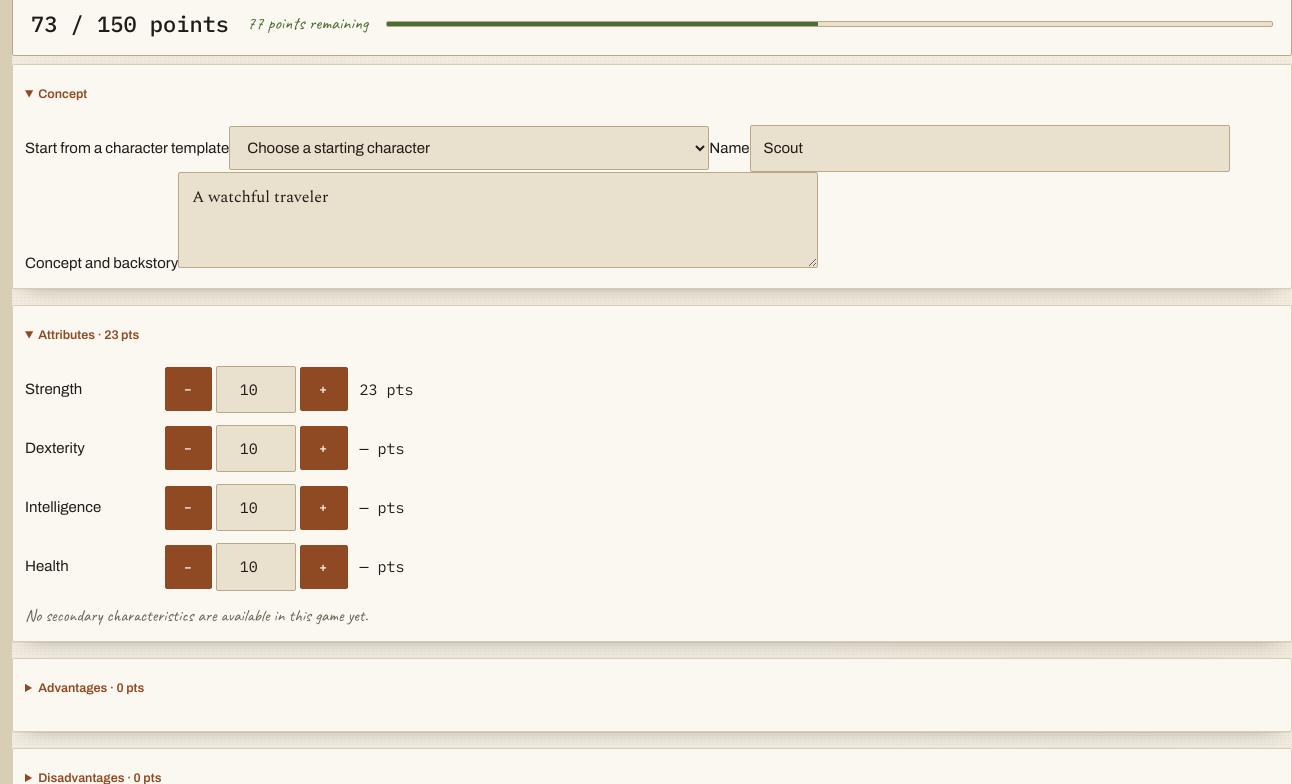
it: says plainly when a section cannot be used instead of leaving it empty (#268)
Expected: the text "73 / 150 points" is shown, x1=31 y1=7 x2=229 y2=41
Click the heading "Advantages · 0 pts" at (91, 688), box x1=38 y1=681 x2=144 y2=695
(page scrolled)
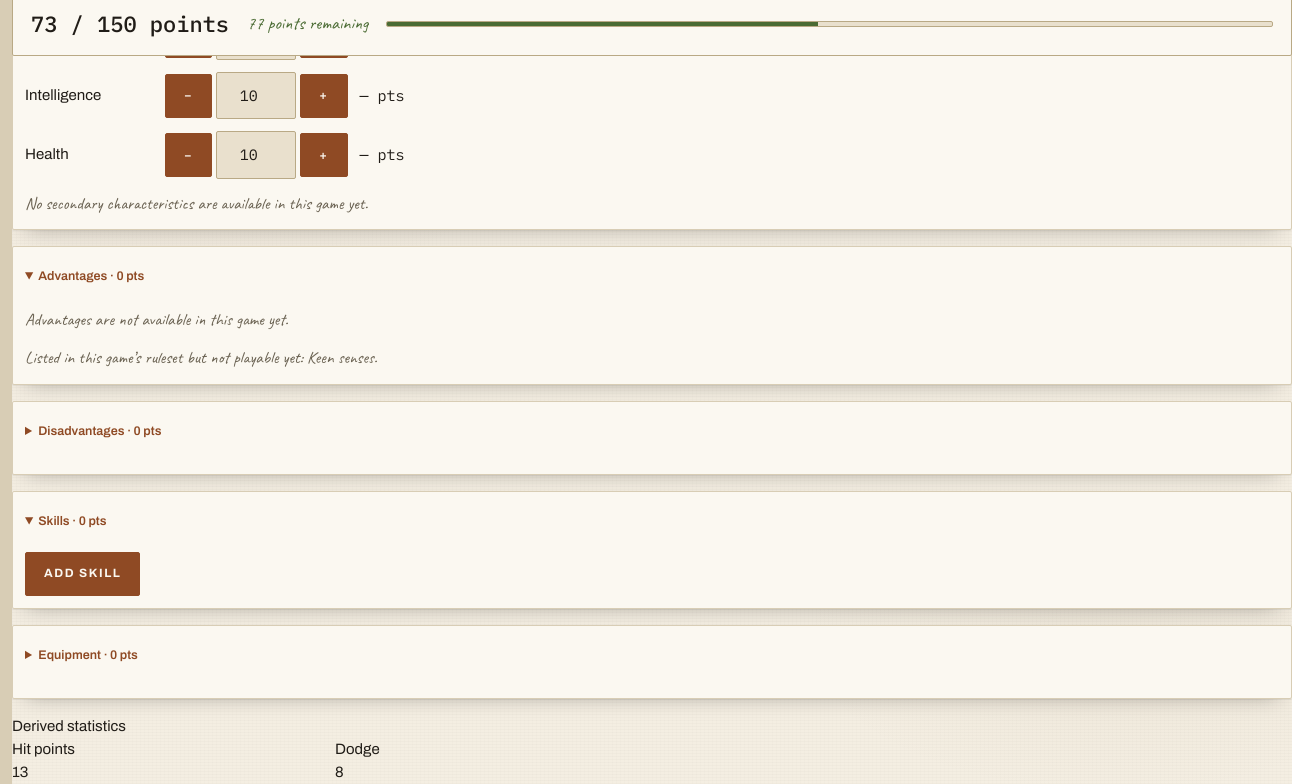
Expected: the text "Advantages are not available in this game yet." is shown, x1=25 y1=309 x2=288 y2=330
Click the heading "Disadvantages · 0 pts" at (100, 431), box x1=38 y1=424 x2=162 y2=438
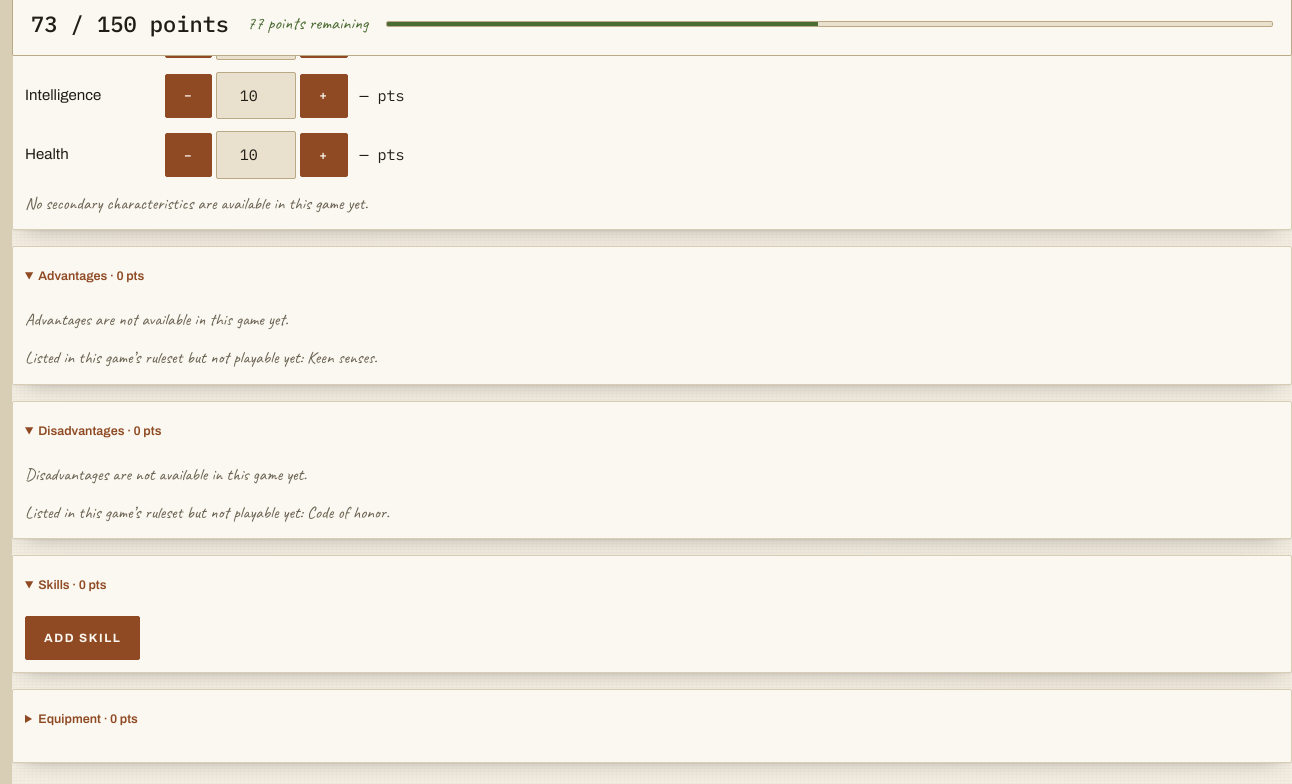
Expected: the text "Disadvantages are not available in this game yet." is shown, x1=25 y1=464 x2=307 y2=485
Click the heading "Equipment · 0 pts" at (88, 719), box x1=38 y1=712 x2=138 y2=726
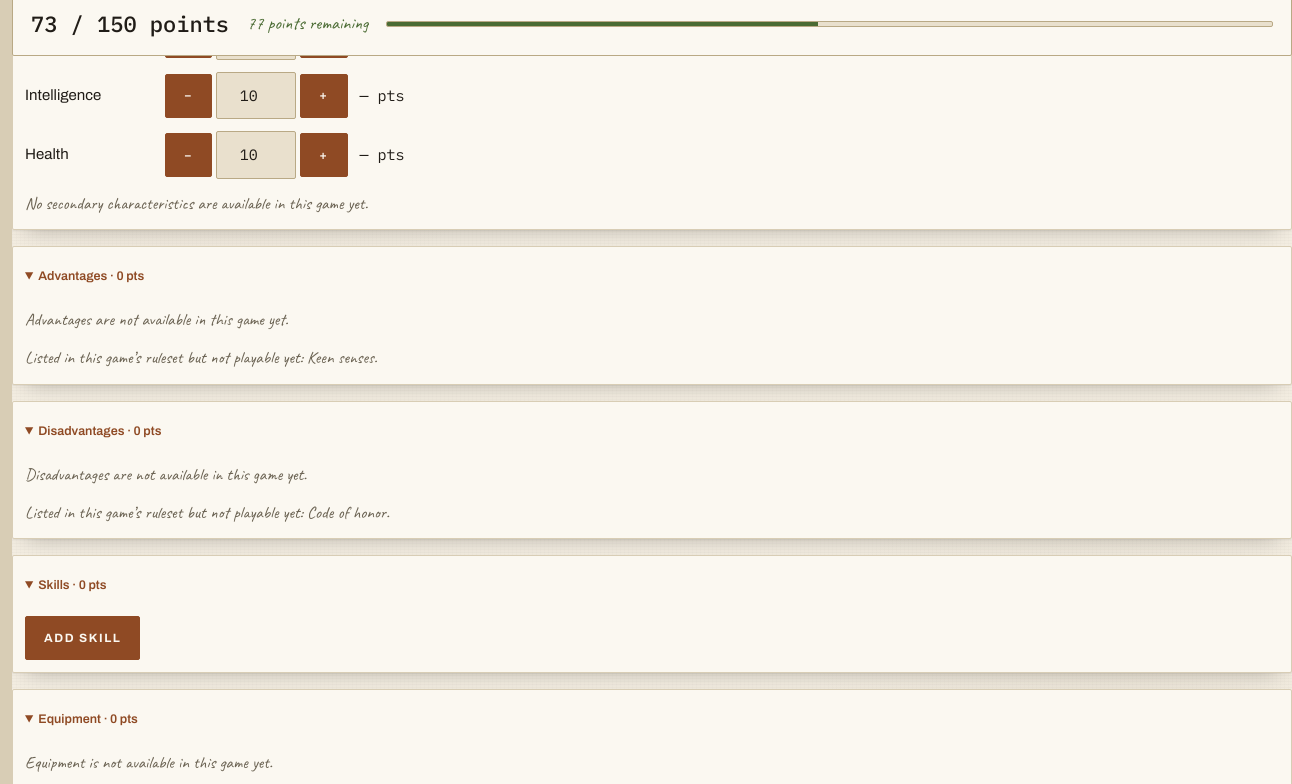
Expected: the text "Equipment is not available in this game yet." is shown, x1=25 y1=752 x2=272 y2=773
